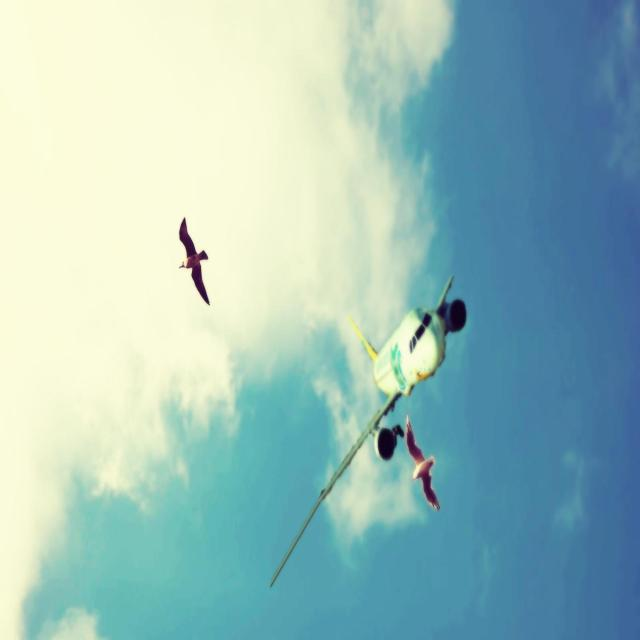airplane: (269, 273, 467, 587)
